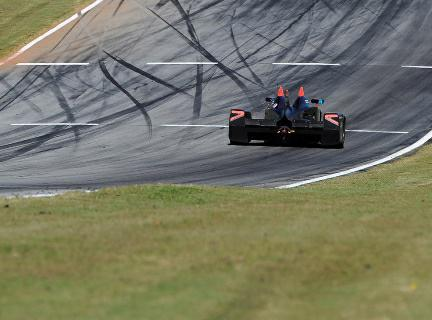日产-DeltaWing: (223, 82, 354, 152)
